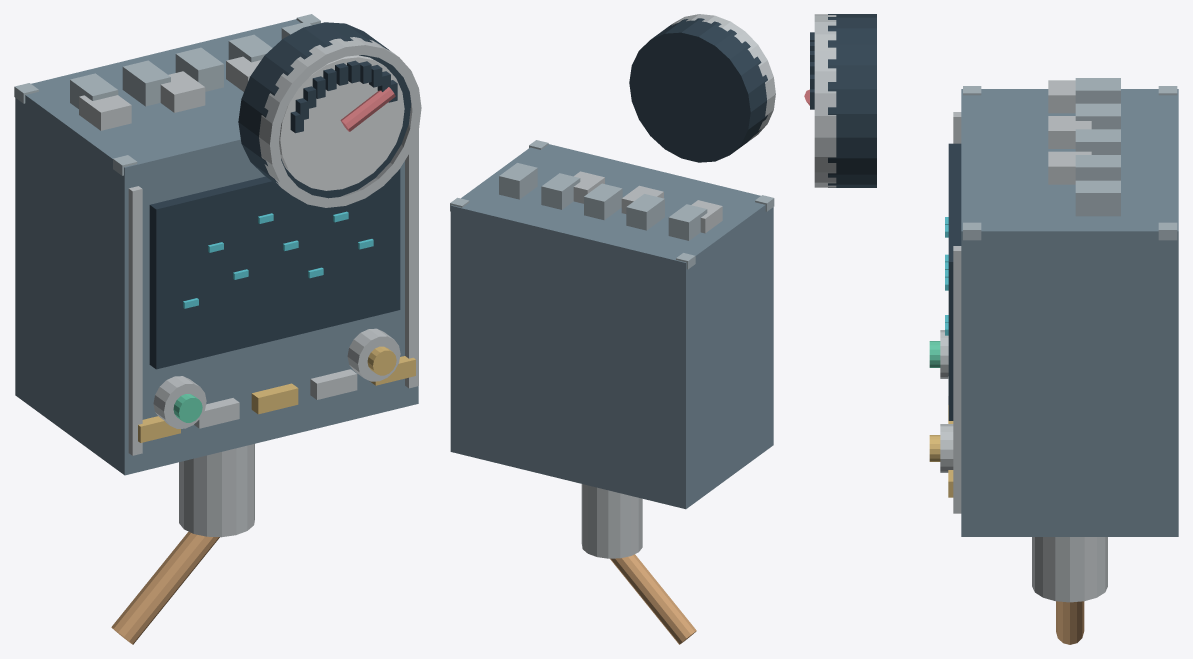
File: 28_L76_PlatingCellVoltageSensor.glb
3 views of the same model, side by side, from view 1: azimuth 30°, elevation 25°; view 2: azimuth 150°, elevation 25°; view 3: azimuth 270°, elevation 25° (orthographic). The views are drawn at different scales.
Visible parts, largest first — view 1: PlatingCellVoltageSensor_Node_0000, PlatingCellVoltageSensor_Node_0007, PlatingCellVoltageSensor_Node_0038, PlatingCellVoltageSensor_Node_0037, PlatingCellVoltageSensor_Node_0036, PlatingCellVoltageSensor_Node_0034, PlatingCellVoltageSensor_Node_0005, PlatingCellVoltageSensor_Node_0035, PlatingCellVoltageSensor_Node_0006, PlatingCellVoltageSensor_Node_0025, PlatingCellVoltageSensor_Node_0019, PlatingCellVoltageSensor_Node_0017 (+13 smaller); view 2: PlatingCellVoltageSensor_Node_0000, PlatingCellVoltageSensor_Node_0036, PlatingCellVoltageSensor_Node_0034, PlatingCellVoltageSensor_Node_0035, PlatingCellVoltageSensor_Node_0037, PlatingCellVoltageSensor_Node_0025, PlatingCellVoltageSensor_Node_0028, PlatingCellVoltageSensor_Node_0026, PlatingCellVoltageSensor_Node_0024, PlatingCellVoltageSensor_Node_0027, PlatingCellVoltageSensor_Node_0023, PlatingCellVoltageSensor_Node_0021; view 3: PlatingCellVoltageSensor_Node_0000, PlatingCellVoltageSensor_Node_0036, PlatingCellVoltageSensor_Node_0034, PlatingCellVoltageSensor_Node_0037, PlatingCellVoltageSensor_Node_0007, PlatingCellVoltageSensor_Node_0006, PlatingCellVoltageSensor_Node_0028, PlatingCellVoltageSensor_Node_0024, PlatingCellVoltageSensor_Node_0027, PlatingCellVoltageSensor_Node_0035, PlatingCellVoltageSensor_Node_0026, PlatingCellVoltageSensor_Node_0025 (+4 smaller).
Boxes of the visible parts, <box> form: PlatingCellVoltageSensor_Node_0000: <box>15,19,418,475</box>; PlatingCellVoltageSensor_Node_0007: <box>149,168,400,369</box>; PlatingCellVoltageSensor_Node_0038: <box>279,55,404,190</box>; PlatingCellVoltageSensor_Node_0037: <box>259,37,421,207</box>; PlatingCellVoltageSensor_Node_0036: <box>238,22,411,198</box>; PlatingCellVoltageSensor_Node_0034: <box>179,444,254,537</box>; PlatingCellVoltageSensor_Node_0005: <box>128,186,142,455</box>; PlatingCellVoltageSensor_Node_0035: <box>111,531,219,644</box>; PlatingCellVoltageSensor_Node_0006: <box>405,130,418,388</box>; PlatingCellVoltageSensor_Node_0025: <box>122,60,170,106</box>; PlatingCellVoltageSensor_Node_0019: <box>347,328,400,381</box>; PlatingCellVoltageSensor_Node_0017: <box>153,376,206,428</box>; PlatingCellVoltageSensor_Node_0000: <box>450,144,773,509</box>; PlatingCellVoltageSensor_Node_0036: <box>629,18,767,162</box>; PlatingCellVoltageSensor_Node_0034: <box>581,484,642,558</box>; PlatingCellVoltageSensor_Node_0035: <box>610,554,696,644</box>; PlatingCellVoltageSensor_Node_0037: <box>671,14,775,141</box>; PlatingCellVoltageSensor_Node_0025: <box>626,194,664,230</box>; PlatingCellVoltageSensor_Node_0028: <box>499,163,537,199</box>; PlatingCellVoltageSensor_Node_0026: <box>584,183,622,220</box>; PlatingCellVoltageSensor_Node_0024: <box>668,204,707,240</box>; PlatingCellVoltageSensor_Node_0027: <box>541,173,580,209</box>; PlatingCellVoltageSensor_Node_0023: <box>573,171,604,203</box>; PlatingCellVoltageSensor_Node_0021: <box>691,200,722,233</box>; PlatingCellVoltageSensor_Node_0000: <box>961,89,1178,536</box>; PlatingCellVoltageSensor_Node_0036: <box>828,14,876,187</box>; PlatingCellVoltageSensor_Node_0034: <box>1032,537,1107,602</box>; PlatingCellVoltageSensor_Node_0037: <box>814,14,836,187</box>; PlatingCellVoltageSensor_Node_0007: <box>948,143,961,420</box>; PlatingCellVoltageSensor_Node_0006: <box>953,246,961,513</box>; PlatingCellVoltageSensor_Node_0028: <box>1075,180,1120,216</box>; PlatingCellVoltageSensor_Node_0024: <box>1075,78,1120,103</box>; PlatingCellVoltageSensor_Node_0027: <box>1075,155,1120,180</box>; PlatingCellVoltageSensor_Node_0035: <box>1056,601,1084,644</box>; PlatingCellVoltageSensor_Node_0026: <box>1075,129,1120,154</box>; PlatingCellVoltageSensor_Node_0025: <box>1075,103,1120,129</box>.
Bounding box in the file's own units: 0.6272 × 1.35 × 0.689.
